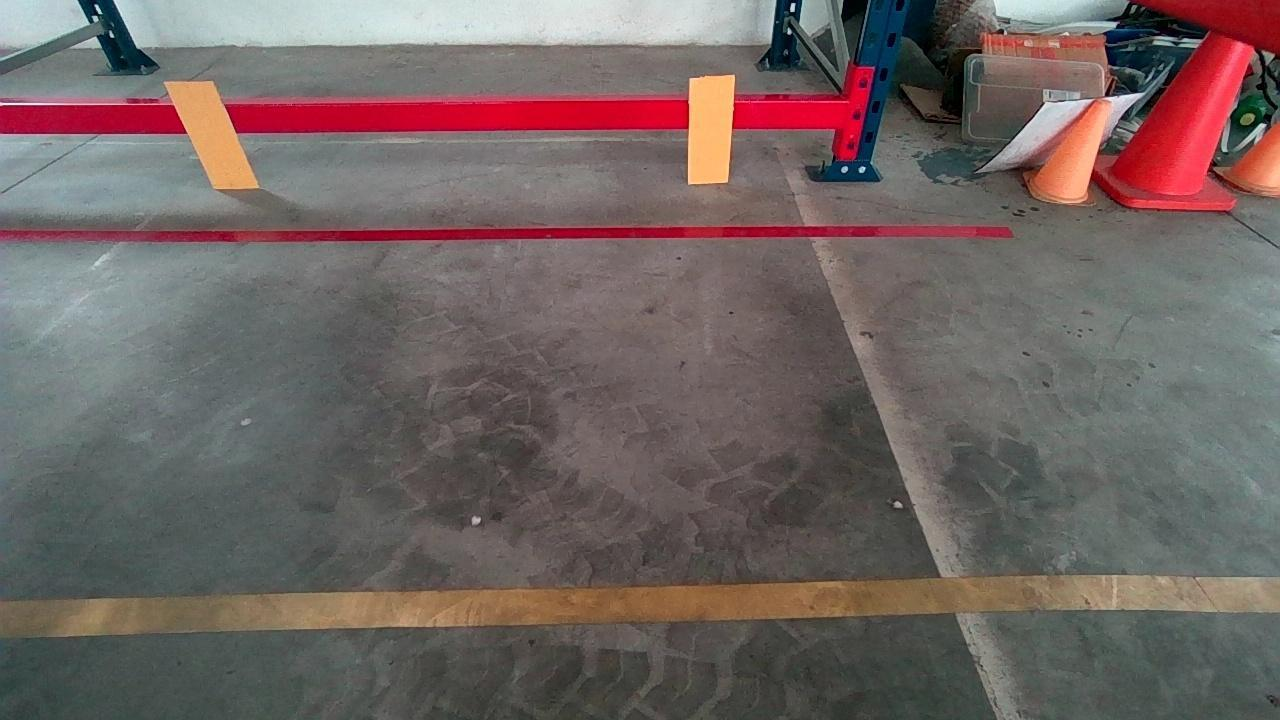h_rack: (0, 101, 847, 134)
orange_strip: (164, 80, 259, 188), (688, 75, 734, 183)
red_line: (0, 220, 1010, 244)
yellow_line: (10, 569, 1259, 640)
